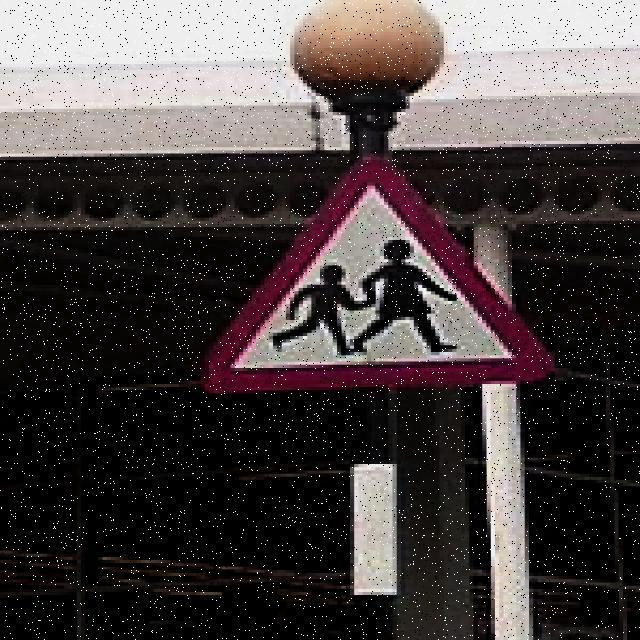Traffic sign: (197, 148, 561, 408)
